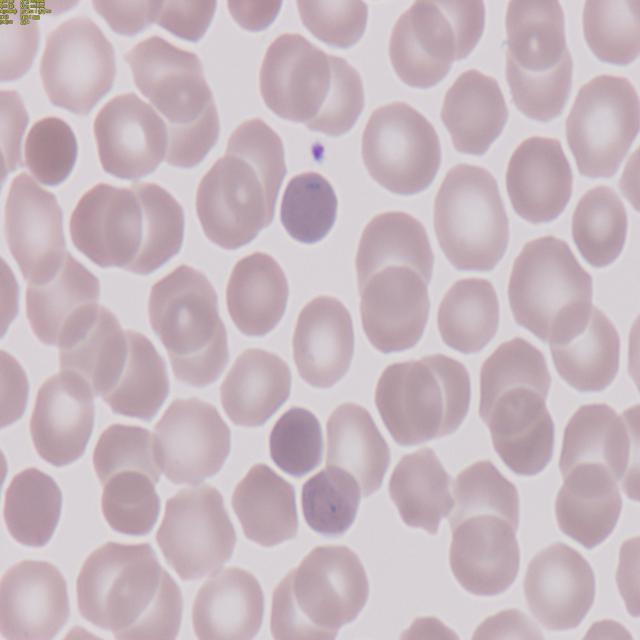RBC: (504, 230, 598, 342), (431, 154, 514, 274), (354, 206, 438, 315), (358, 96, 444, 198), (564, 70, 640, 184), (35, 12, 117, 116), (158, 484, 242, 582), (0, 174, 70, 288), (150, 392, 234, 486), (291, 540, 373, 636), (520, 540, 600, 636), (25, 366, 99, 468), (64, 180, 142, 274), (144, 262, 222, 356), (320, 400, 392, 501), (90, 92, 170, 182), (118, 178, 190, 278), (257, 33, 333, 127), (191, 160, 267, 254), (504, 133, 578, 229), (444, 515, 524, 603), (550, 302, 622, 398), (288, 295, 358, 393), (370, 358, 443, 451), (358, 269, 436, 356), (552, 464, 627, 552), (220, 344, 295, 431), (440, 68, 510, 160), (222, 246, 290, 338), (186, 566, 270, 640), (232, 464, 302, 552), (385, 5, 457, 90), (0, 557, 72, 640), (387, 448, 456, 534), (490, 391, 558, 478), (436, 273, 506, 356), (572, 184, 633, 274), (503, 0, 570, 71), (298, 468, 362, 540), (99, 471, 162, 543), (579, 0, 640, 69), (294, 0, 368, 53), (86, 0, 166, 38), (464, 607, 556, 640), (611, 530, 640, 628), (151, 0, 218, 42), (0, 347, 31, 434), (218, 0, 288, 34), (0, 246, 21, 346), (393, 613, 468, 640), (573, 616, 637, 640), (42, 626, 118, 640)
Spherocyte: (0, 467, 65, 554), (276, 172, 340, 250), (23, 113, 82, 187), (266, 404, 324, 479)
